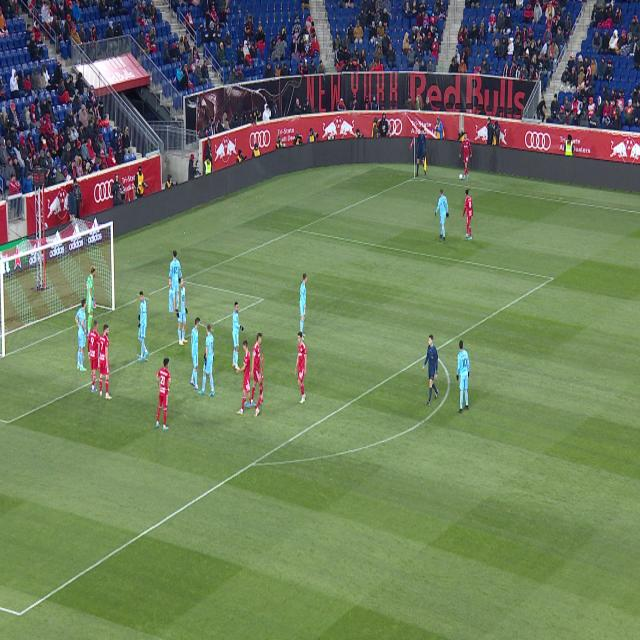goalkeeper: (86, 266, 96, 337)
player: (236, 340, 260, 417), (156, 358, 171, 430), (199, 325, 214, 397), (98, 324, 112, 399), (250, 333, 263, 406), (294, 332, 307, 404), (457, 341, 470, 413), (88, 320, 100, 393), (75, 299, 87, 372), (137, 291, 149, 362), (176, 277, 188, 346), (232, 302, 243, 370), (190, 318, 200, 389), (170, 250, 181, 312), (436, 190, 448, 241), (299, 273, 307, 340), (463, 190, 473, 240), (244, 399, 251, 408)
referee: (422, 335, 439, 406)
